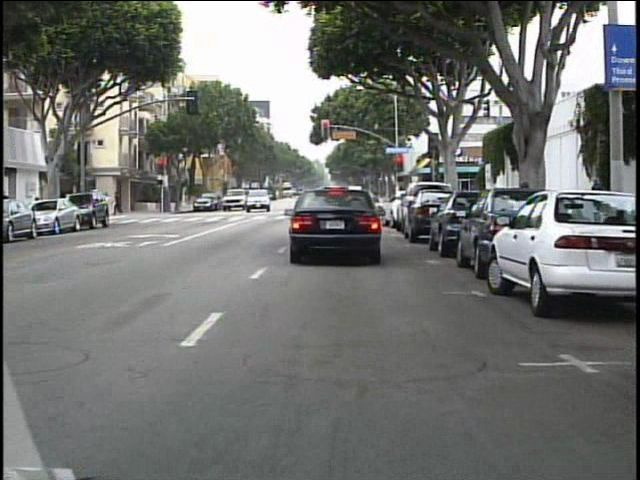person: (113, 189, 127, 219), (0, 184, 15, 204)
